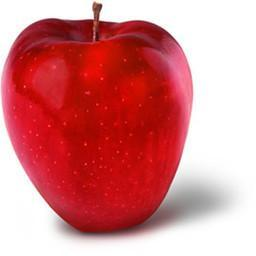apple: (0, 10, 194, 235)
